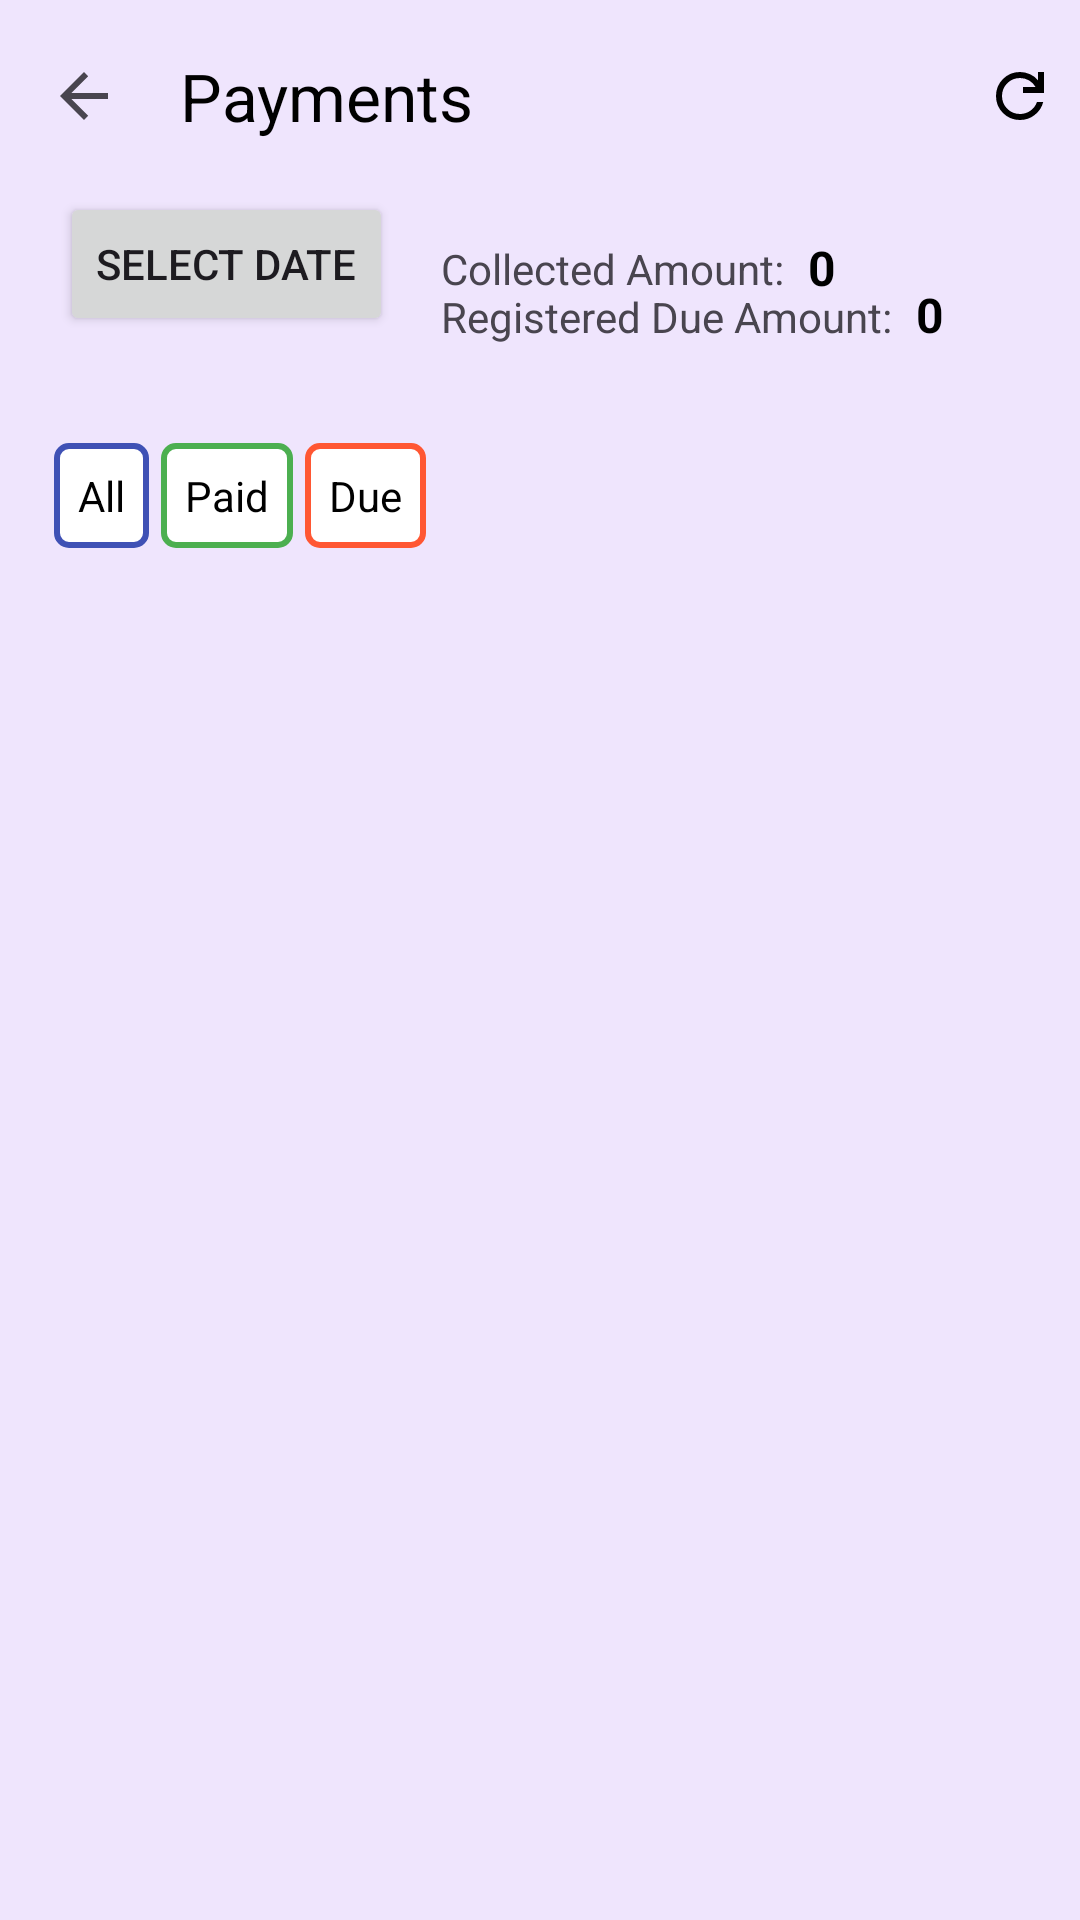

Where to tap for icons on this 1080px×1920px app screen, as (x=x, y=y):
Refresh: (x=1020, y=96)
